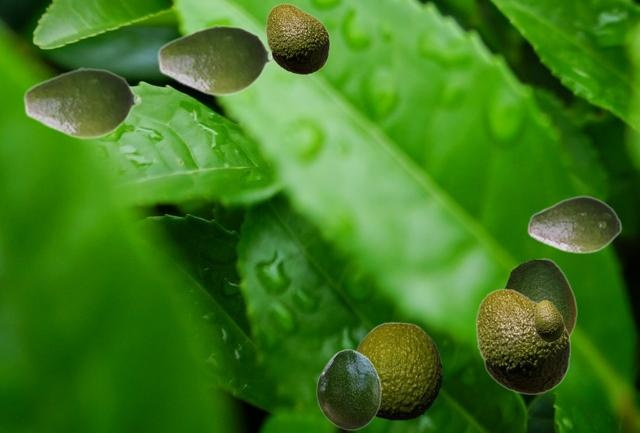avocado: (475, 288, 570, 394), (22, 66, 141, 139), (156, 23, 273, 96), (356, 322, 441, 419), (503, 258, 576, 336), (527, 195, 621, 253), (316, 349, 380, 429), (265, 3, 329, 74), (533, 300, 563, 341)
